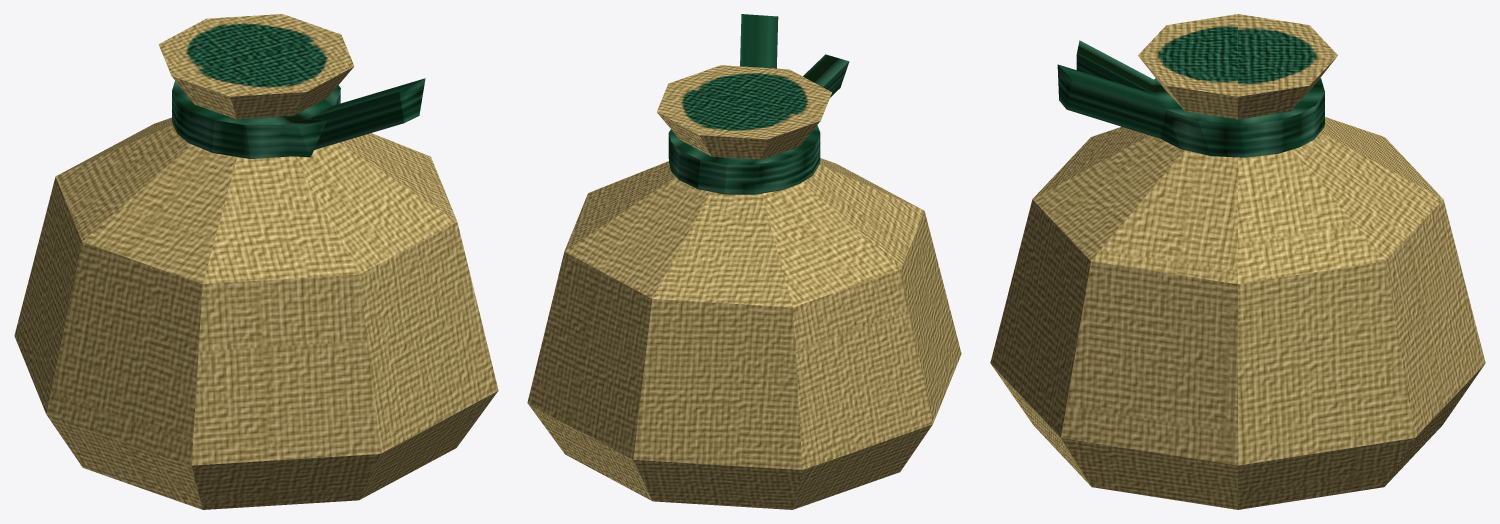
The model's file is Bug.fbx.
3 renders of one model, left to right at view 1: azimuth 30°, elevation 25°; view 2: azimuth 150°, elevation 25°; view 3: azimuth 270°, elevation 25°, orthographic. The views are drawn at different scales.
Parts seen in each view (by area): view 1: Cube.002, Cylinder.001; view 2: Cube.002, Cylinder.001; view 3: Cube.002, Cylinder.001.
Part boxes in pixels (box(x1,y1,x2,y2)): Cube.002: box(14, 14, 498, 509); Cylinder.001: box(172, 78, 425, 158); Cube.002: box(527, 65, 961, 509); Cylinder.001: box(668, 14, 849, 194); Cube.002: box(990, 14, 1485, 509); Cylinder.001: box(1057, 40, 1324, 157).
Size of the model in its own units: 0.9159 by 0.8055 by 0.9354.
